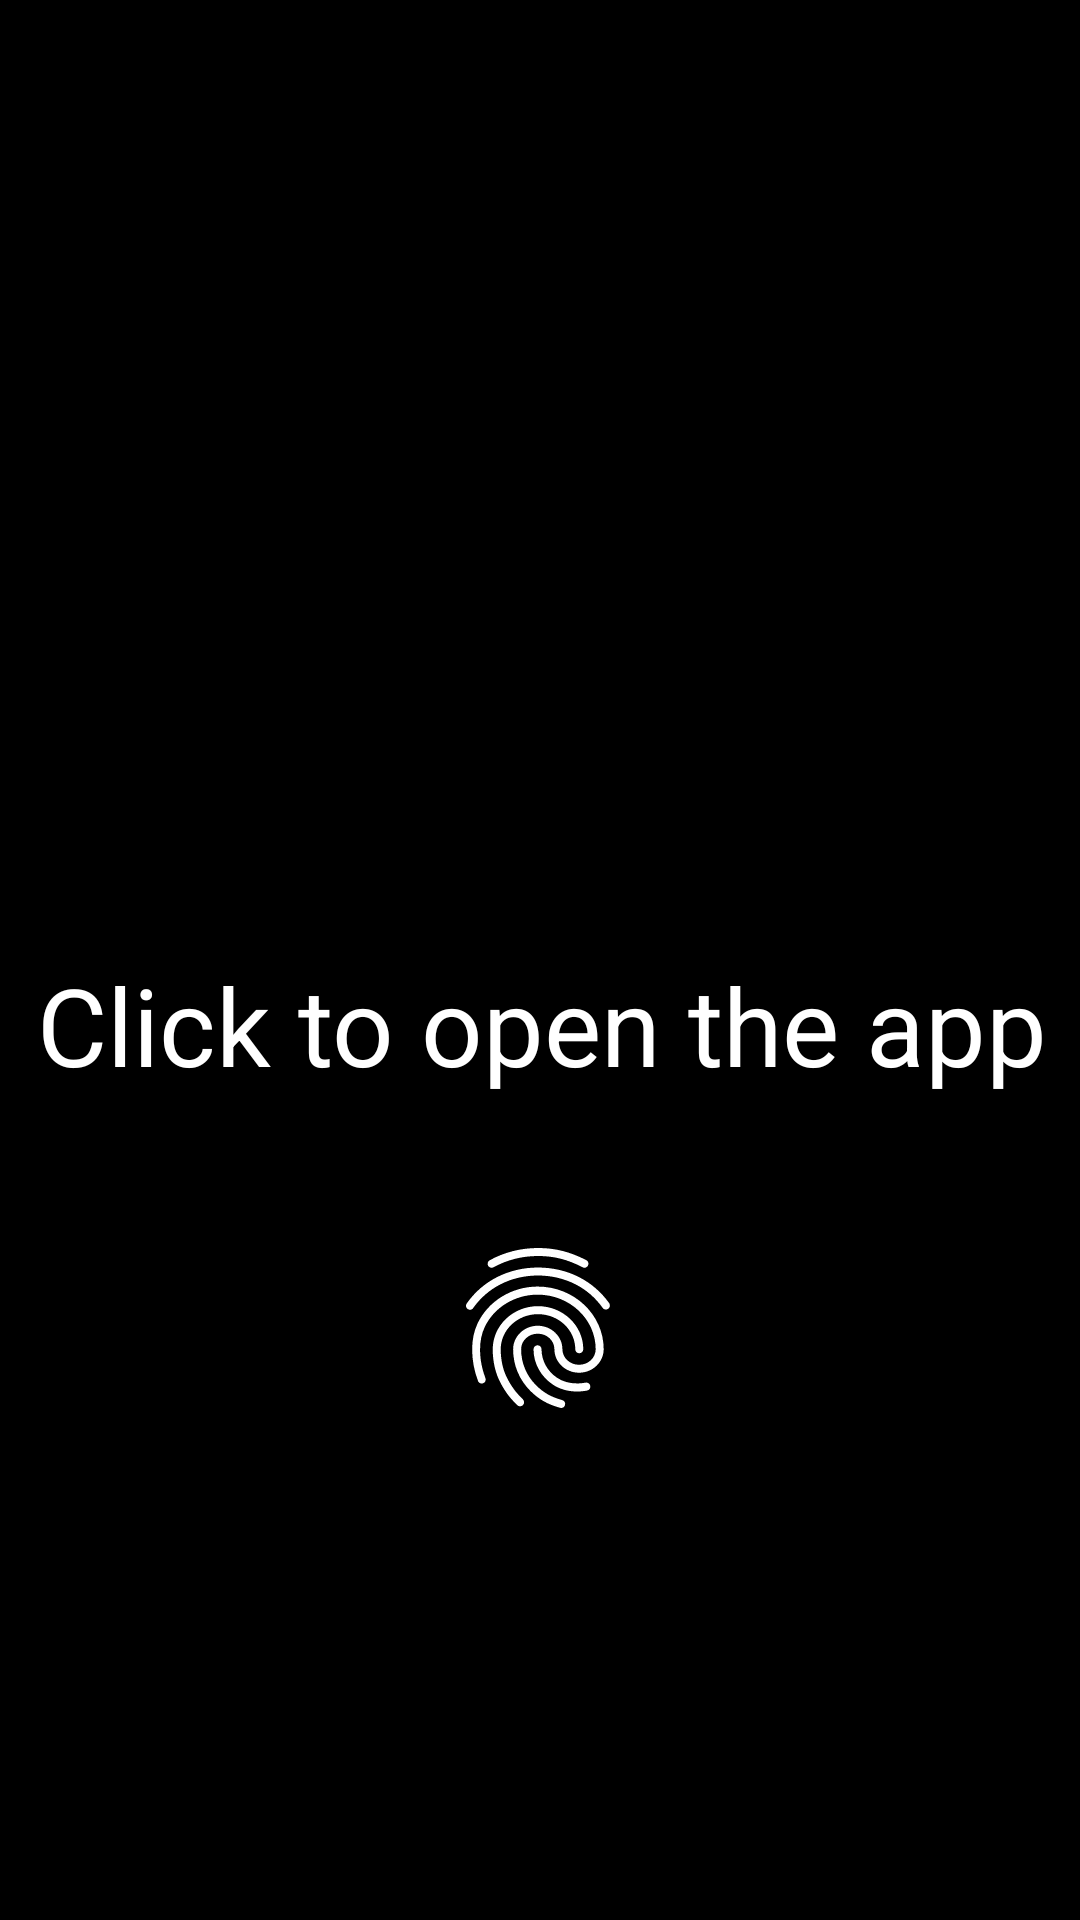

Named icons in this screenshot (1080 × 1920) and their bounding boxes, (x1, y1, x2, y2):
fingerprint: (466, 1248, 610, 1408)
